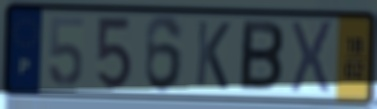5: (94, 14, 135, 91), (46, 14, 86, 88)
6: (143, 12, 185, 96)
B: (237, 18, 286, 95)
K: (194, 18, 233, 93)
X: (288, 18, 335, 98)
